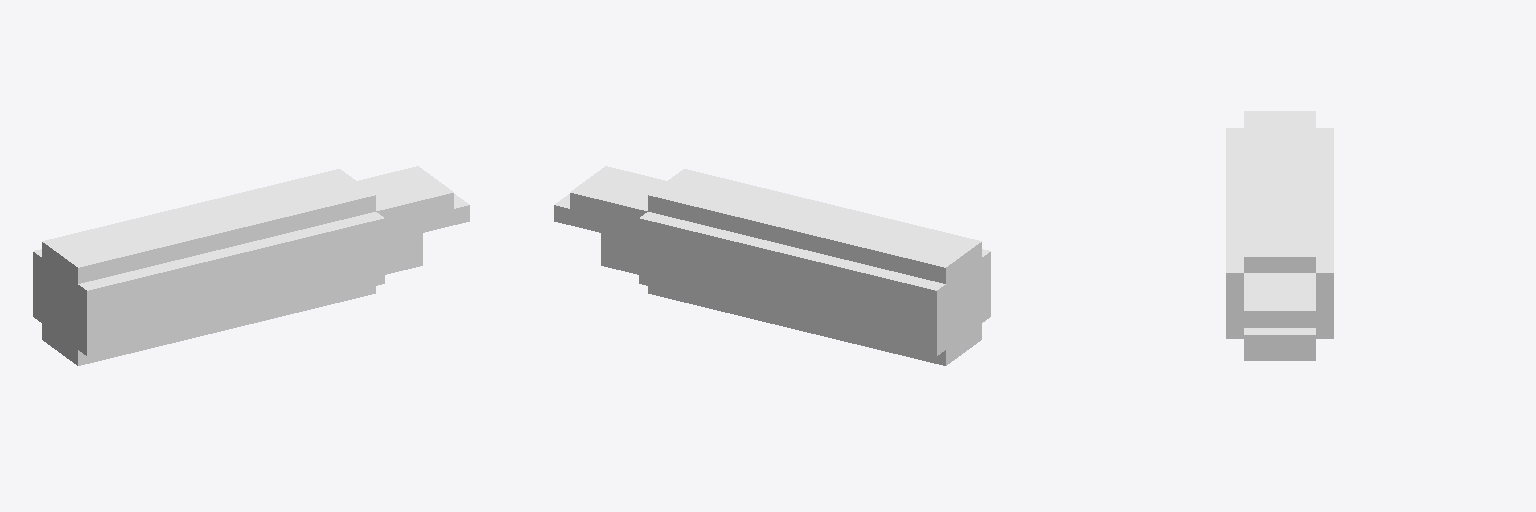
The model's file is granny_left_arm.obj.
The picture shows the model from 3 angles: view 1: azimuth 30°, elevation 25°; view 2: azimuth 150°, elevation 25°; view 3: azimuth 270°, elevation 25°; orthographic projection.
Visible parts, largest first — view 1: object 1; view 2: object 1; view 3: object 1.
Part boxes in pixels (x1,y1,x2,y2): object 1: (33, 166, 469, 365); object 1: (554, 166, 990, 365); object 1: (1226, 111, 1333, 360).
Bounding box in the file's own units: 2.5 × 0.6 × 0.6.